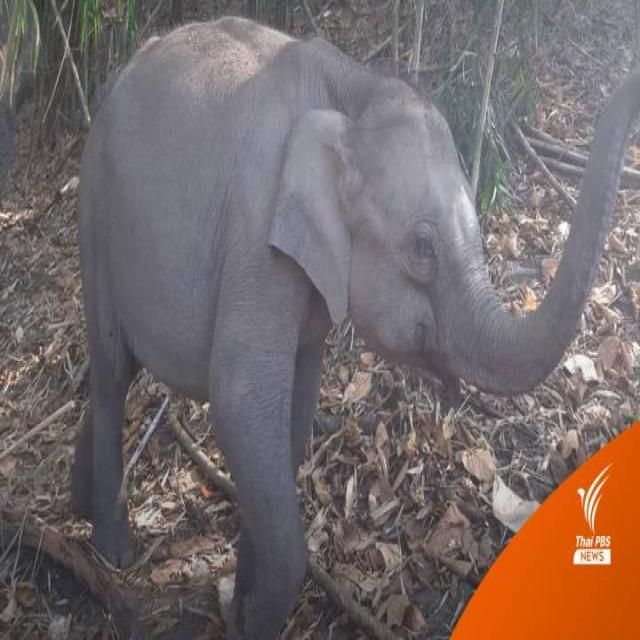Elephant: (54, 0, 547, 640)
